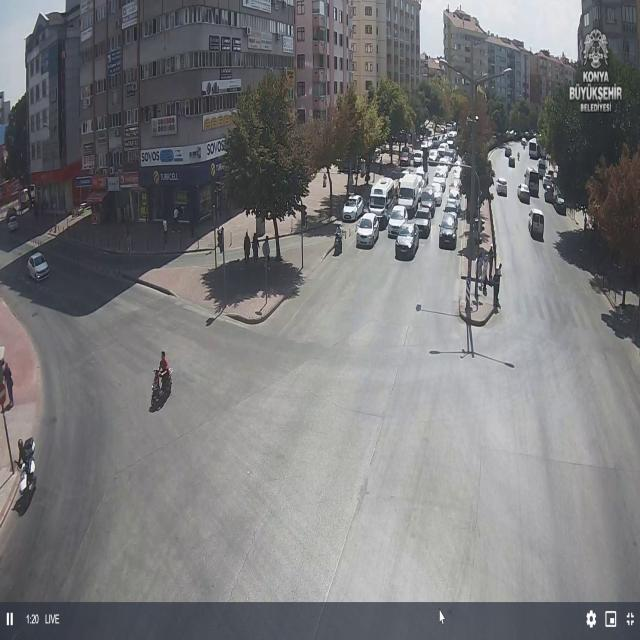Bus: (367, 177, 394, 222)
Car: (393, 222, 419, 260), (355, 211, 381, 248), (387, 206, 409, 237), (438, 214, 458, 248), (413, 209, 431, 239), (428, 182, 443, 204), (418, 193, 434, 212), (515, 184, 530, 203), (495, 178, 509, 198), (442, 202, 460, 214)
Cycle: (150, 348, 176, 399), (332, 224, 344, 254)
Van: (398, 174, 421, 209), (527, 208, 545, 240)
